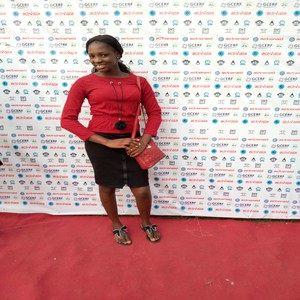Fulokoja_female_student: (72, 36, 159, 244)
